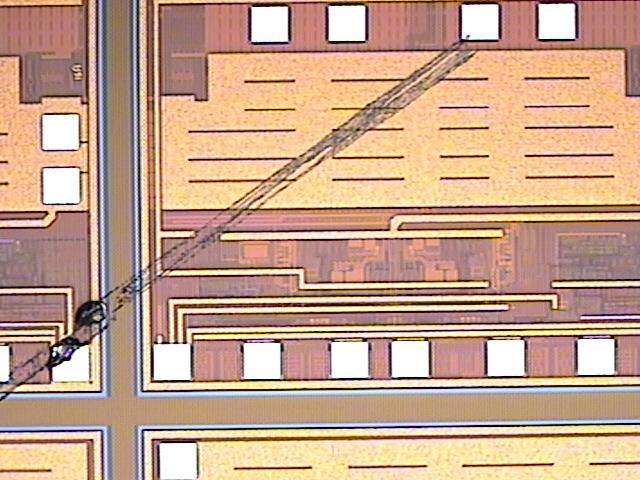SCRATCH: (1, 24, 501, 419)
